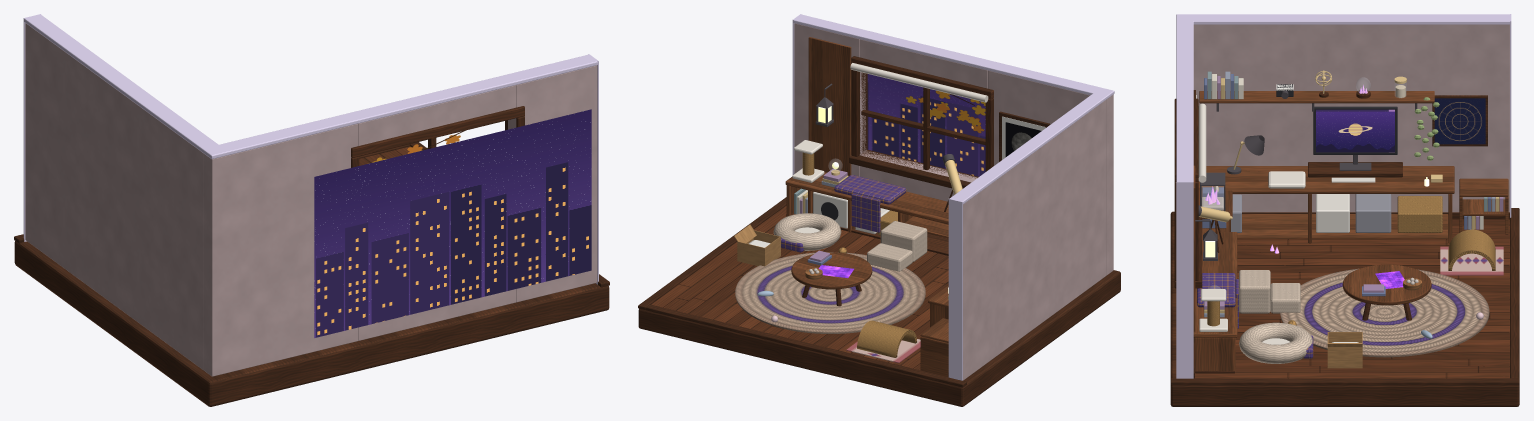
File: room.glb
The picture shows the model from 3 angles, left to right: view 1: azimuth 30°, elevation 25°; view 2: azimuth 150°, elevation 25°; view 3: azimuth 270°, elevation 25°; orthographic projection. The views are drawn at different scales.
Parts seen in each view (by area): view 1: Night city backdrop, Wall right, Wall left A, Base plinth, Wall left B, Wall cap left, Wall cap right, Wall left over window, Wall left under window, Window frame top, Wall end right; view 2: Wall right, Base plinth, Braided rug, Floor boards, Night city backdrop, Wood panel lantern, Wall left A, Wall cap left, Wall left B, Wall end right, Wall cap right, Wall left over window (+28 smaller); view 3: Wall right, Floor boards, Braided rug, Base plinth, Desk top, Wall cap right, Wall end left, Monitor screen, Desk under shelf, Wall cap left, Plinth lip front, Wall shelf (+33 smaller).
Part boxes in pixels (box(x1,y1,x2,y2)): Night city backdrop: box(314, 109, 591, 337); Wall right: box(25, 23, 203, 369); Wall left A: box(203, 124, 358, 376); Base plinth: box(14, 241, 609, 406); Wall left B: box(508, 65, 597, 302); Wall cap left: box(202, 54, 597, 159); Wall cap right: box(24, 14, 227, 158); Wall left over window: box(358, 85, 516, 145); Wall left under window: box(358, 289, 516, 340); Window frame top: box(351, 106, 524, 157); Wall end right: box(23, 14, 40, 241); Wall right: box(963, 100, 1106, 380); Base plinth: box(638, 270, 1120, 406); Braided rug: box(735, 252, 925, 333); Floor boards: box(651, 205, 948, 370); Night city backdrop: box(867, 74, 985, 176); Wood panel lantern: box(808, 37, 851, 175); Wall left A: box(988, 70, 1113, 275); Wall cap left: box(793, 14, 1114, 98); Wall left B: box(794, 23, 866, 176); Wall end right: box(948, 198, 962, 380); Wall cap right: box(950, 92, 1109, 204); Wall left over window: box(860, 39, 987, 88); Wall right: box(1193, 24, 1509, 212); Floor boards: box(1195, 219, 1509, 378); Braided rug: box(1280, 268, 1489, 357); Base plinth: box(1170, 211, 1519, 406); Desk top: box(1198, 166, 1454, 193); Wall cap right: box(1176, 14, 1509, 24); Wall end left: box(1176, 182, 1193, 378); Monitor screen: box(1316, 109, 1394, 152); Desk under shelf: box(1237, 214, 1448, 239); Wall cap left: box(1176, 14, 1193, 181); Plinth lip front: box(1170, 378, 1519, 385); Wall shelf: box(1199, 91, 1434, 103).
Bounding box in the file's own units: 5.2 × 3.09 × 4.67.
41 materials, 18 textured.
